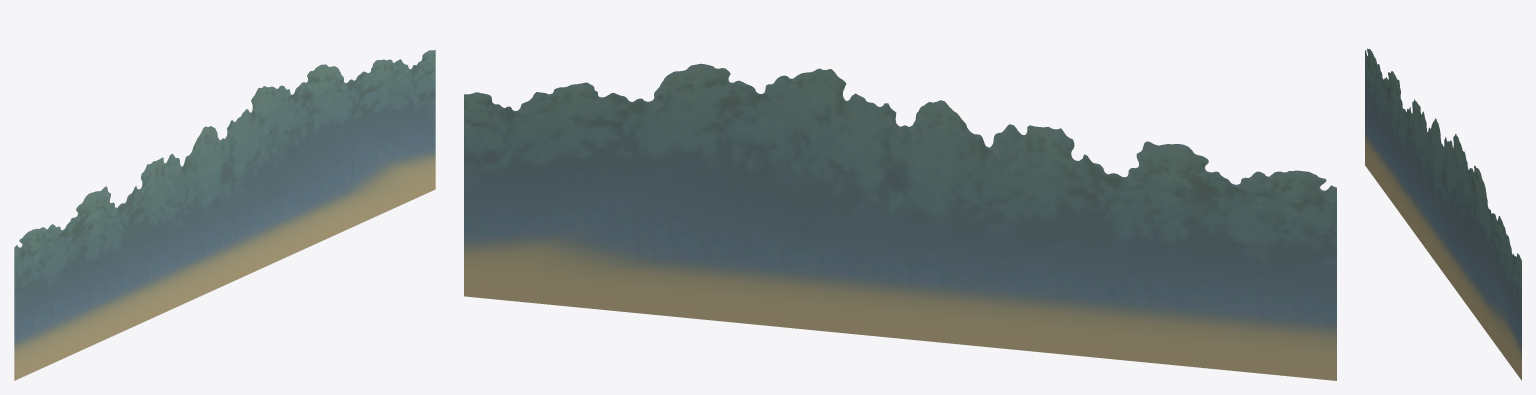
Rendered from sucai_24.FBX.
3 views of the same model, side by side, from view 1: azimuth 30°, elevation 25°; view 2: azimuth 150°, elevation 25°; view 3: azimuth 270°, elevation 25° (orthographic). The views are drawn at different scales.
Parts seen in each view (by area): view 1: sucai_24; view 2: sucai_24; view 3: sucai_24.
Boxes of the visible parts, x1=… form: sucai_24: x1=14, y1=50, x2=435, y2=380; sucai_24: x1=464, y1=63, x2=1336, y2=380; sucai_24: x1=1365, y1=48, x2=1521, y2=380.
Bounding box in the file's own units: 80.96 × 24.88 × 34.08.
